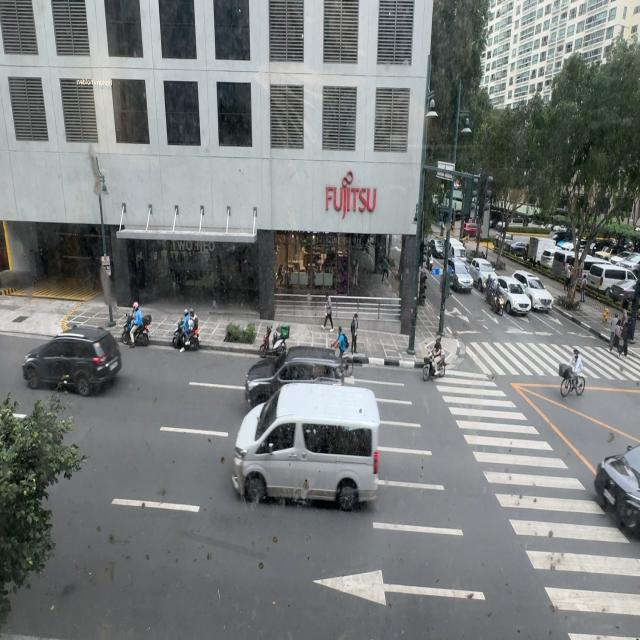crossing: (618, 316, 629, 358), (624, 312, 635, 353), (608, 315, 618, 352)
pedestrain: (323, 293, 334, 332), (350, 314, 359, 354)
